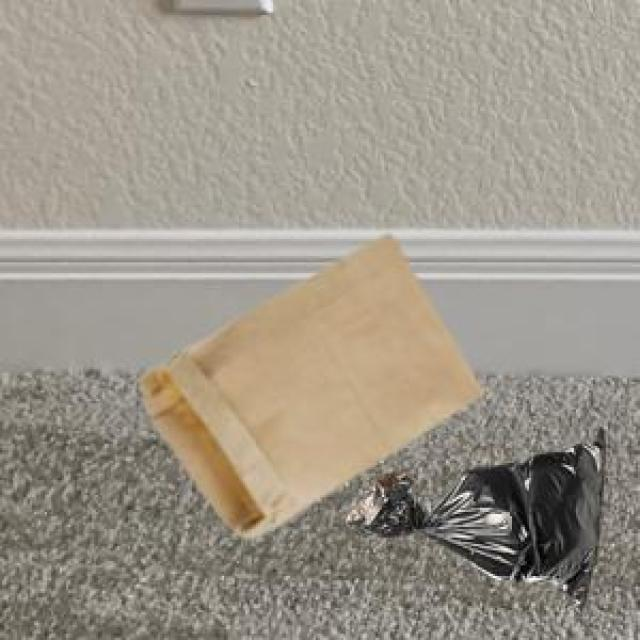miscellaneous trash: (344, 422, 600, 606)
paper: (137, 230, 478, 533)
